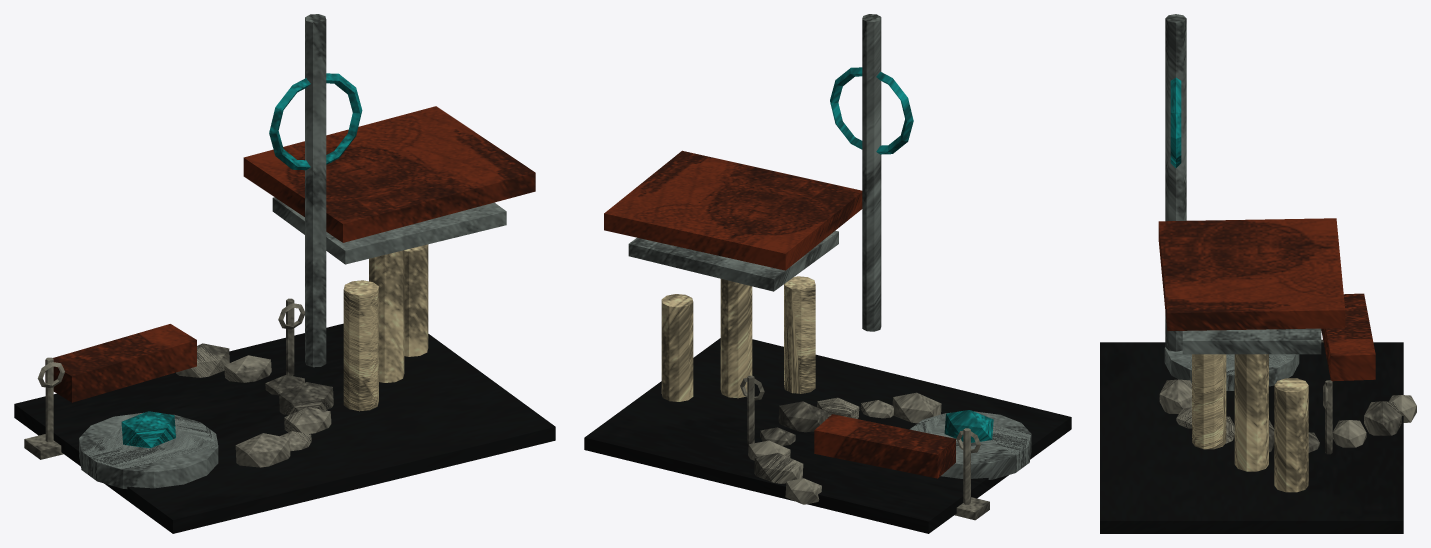
Rendered from regolith-core-yard.glb.
The picture shows the model from 3 angles, left to right: view 1: azimuth 30°, elevation 25°; view 2: azimuth 150°, elevation 25°; view 3: azimuth 270°, elevation 25°; orthographic projection. The views are drawn at different scales.
Visible parts, largest first — view 1: regolith-core-yard; view 2: regolith-core-yard; view 3: regolith-core-yard.
Part boxes in pixels (left/top/right/bottom): regolith-core-yard: left=14, top=14, right=555, bottom=533; regolith-core-yard: left=584, top=14, right=1071, bottom=533; regolith-core-yard: left=1100, top=14, right=1416, bottom=533.
Bounding box in the file's own units: 7 × 7.1 × 4.8.
Materials: 1 (1 with a texture image).
